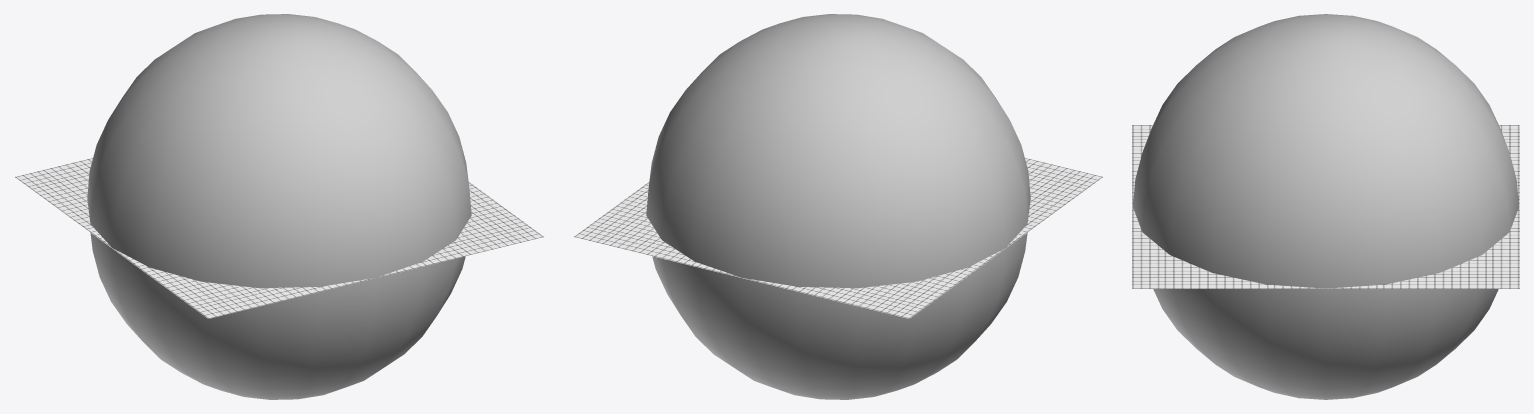
File: Stage_Maya.fbx
The picture shows the model from 3 angles, left to right: view 1: azimuth 30°, elevation 25°; view 2: azimuth 150°, elevation 25°; view 3: azimuth 270°, elevation 25°; orthographic projection.
Visible parts, largest first — view 1: pSphere2; view 2: pSphere2; view 3: pSphere2.
Boxes of the visible parts, x1=… form: pSphere2: x1=15, y1=14, x2=543, y2=399; pSphere2: x1=574, y1=14, x2=1102, y2=399; pSphere2: x1=1132, y1=14, x2=1519, y2=399.
Size of the model in its own units: 1683 by 1677 by 1683.
